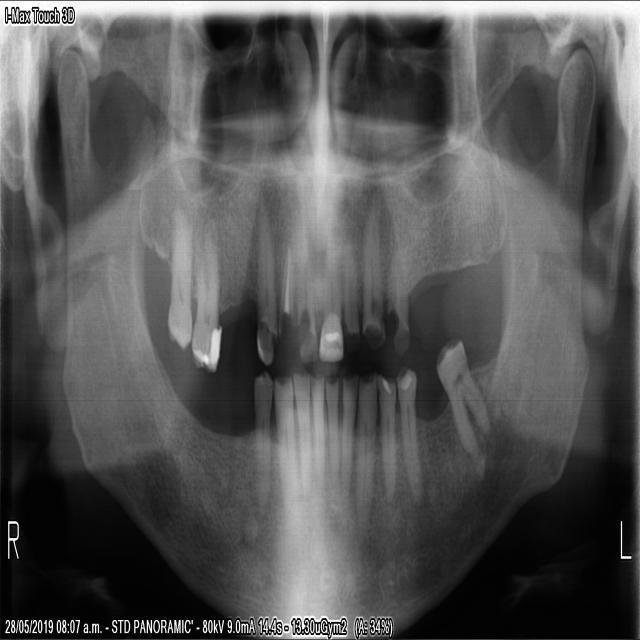LCD: (352, 366, 377, 543)
LCU: (358, 201, 387, 354)
LID: (336, 367, 359, 515), (322, 369, 341, 507)
LIU: (316, 214, 343, 365)
LMD: (432, 326, 491, 464)
LPMD: (393, 360, 424, 504), (374, 367, 398, 508)
RCD: (270, 369, 299, 518)
RCU: (252, 191, 277, 369)
RID: (289, 364, 312, 504), (307, 366, 325, 498)
RMU: (188, 223, 222, 379), (162, 201, 194, 353)
RPMD: (251, 363, 273, 517)
